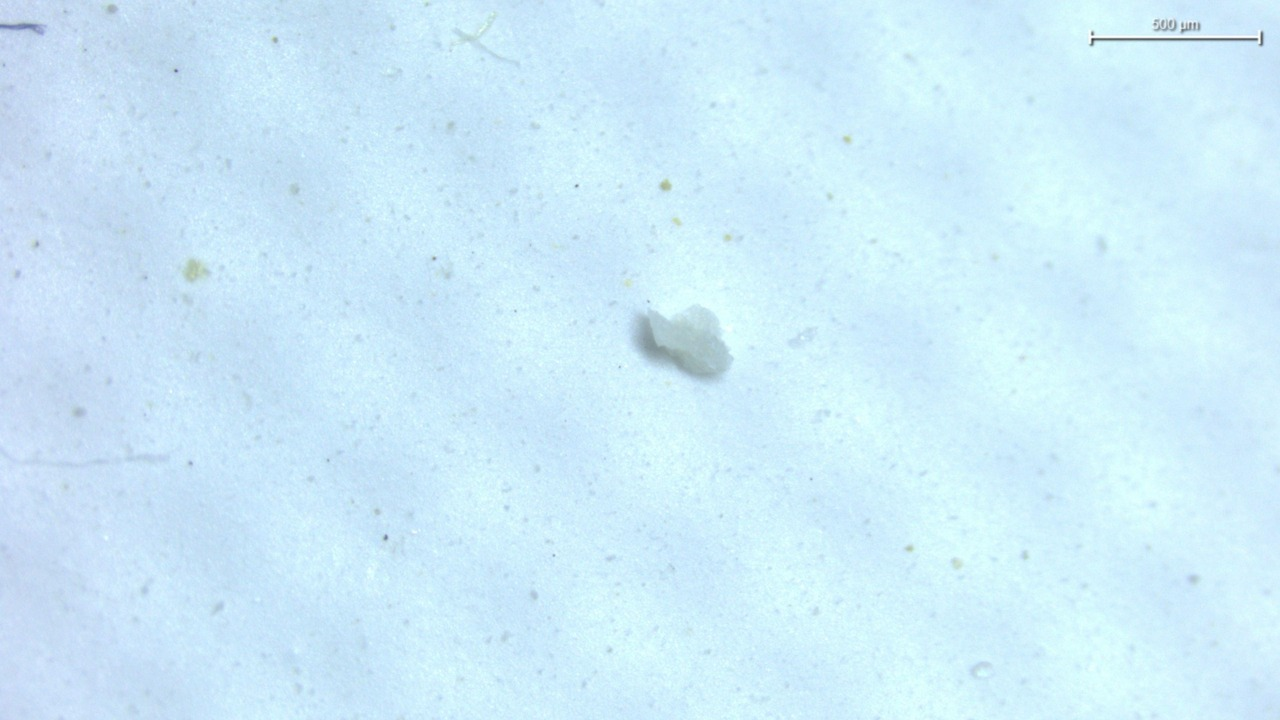microplastic_fragment: (645, 304, 731, 375)
